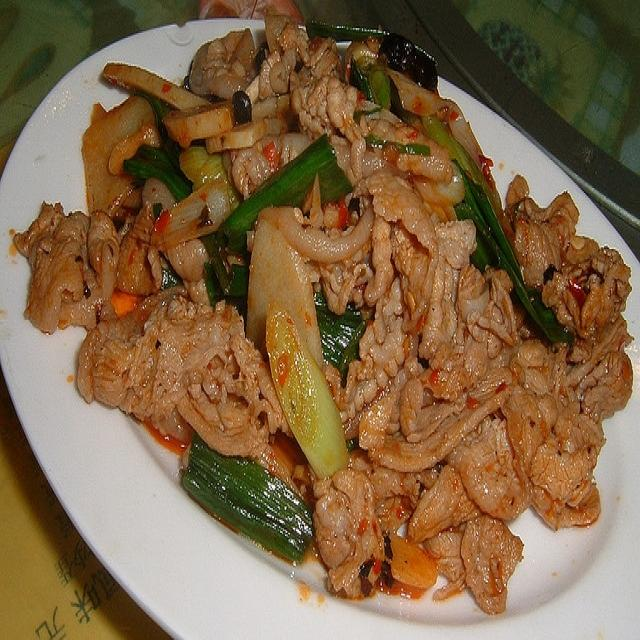汤锅炖物: (16, 11, 640, 618)
